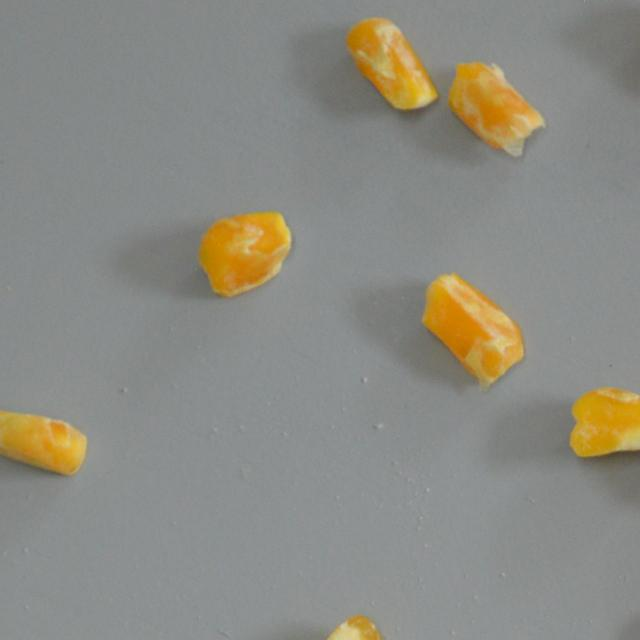pelicula: (420, 272, 526, 390), (446, 60, 546, 161), (343, 13, 438, 114), (192, 207, 292, 296), (0, 400, 89, 478), (568, 384, 640, 460), (307, 615, 398, 640)
